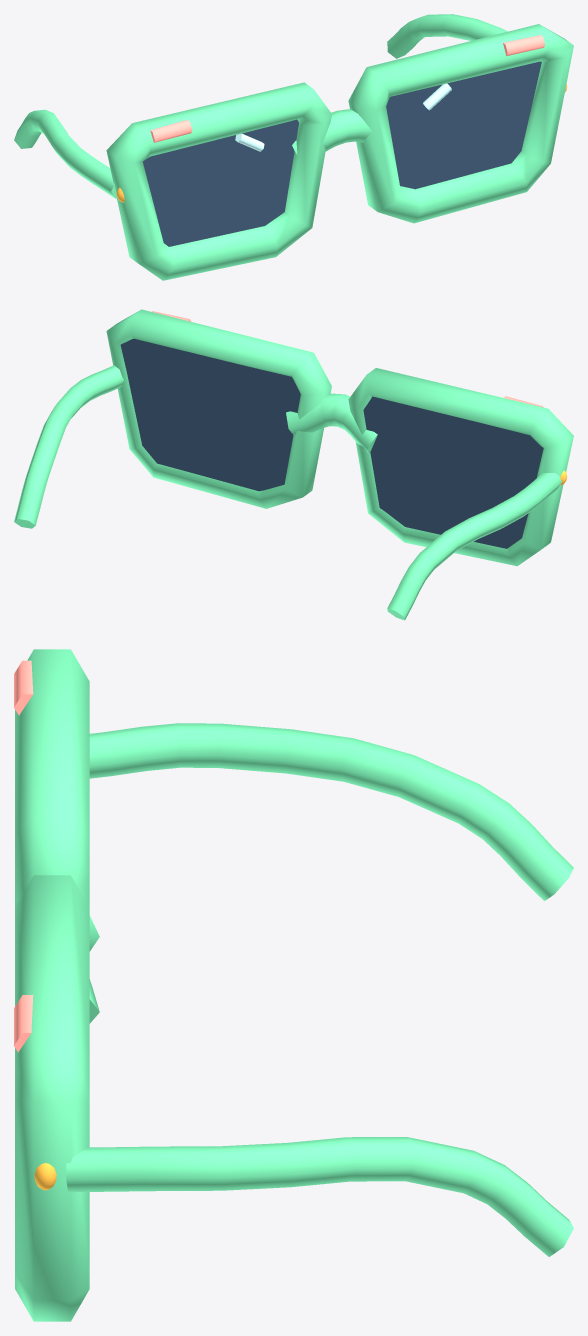
Rendered from melon_shades.glb.
3 renders of one model, top to bottom at view 1: azimuth 30°, elevation 25°; view 2: azimuth 150°, elevation 25°; view 3: azimuth 270°, elevation 25°, orthographic. The views are drawn at different scales.
Parts seen in each view (by area): view 1: Melon Soda Shades; view 2: Melon Soda Shades; view 3: Melon Soda Shades.
Part boxes in pixels (left/top/right/bottom): Melon Soda Shades: left=14, top=14, right=573, bottom=280; Melon Soda Shades: left=14, top=309, right=573, bottom=620; Melon Soda Shades: left=14, top=649, right=573, bottom=1321.
Size of the model in its own units: 1 by 0.3293 by 0.5353.
